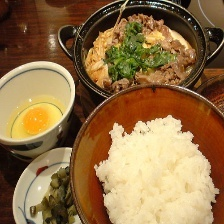rice: (92, 115, 220, 224)
